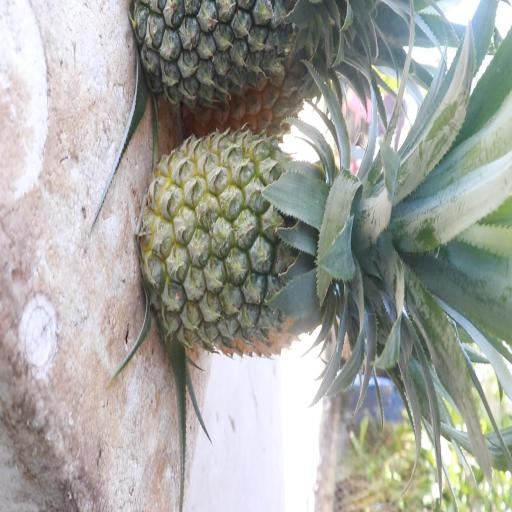------------------------------: (141, 138, 357, 357)
